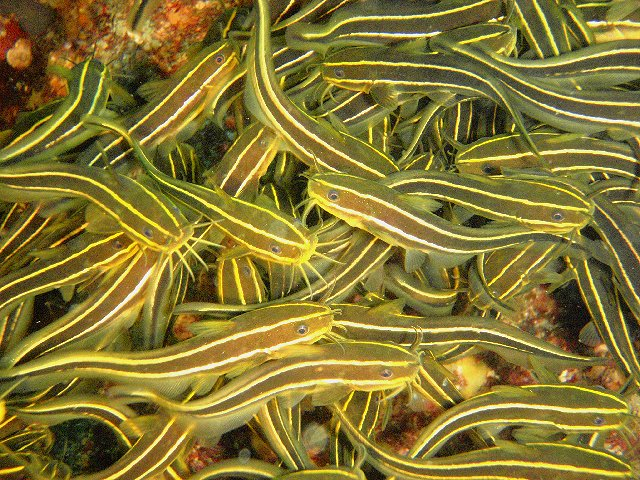gonzui: (153, 349, 428, 429)
